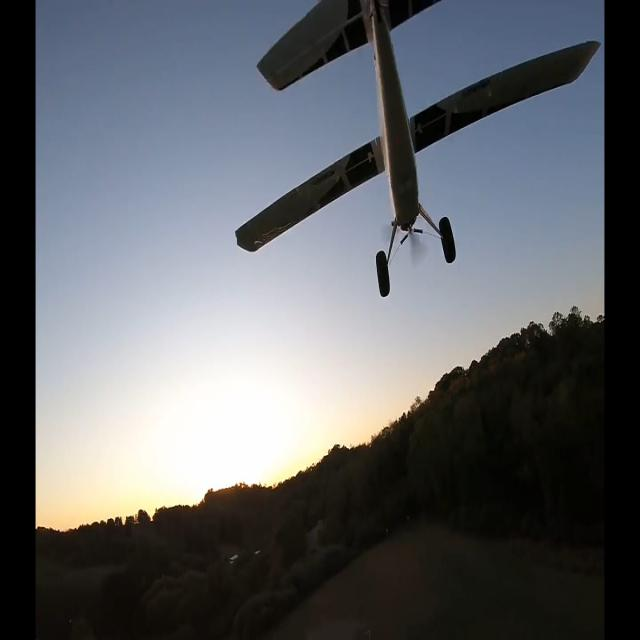iha: (234, 0, 601, 300)
